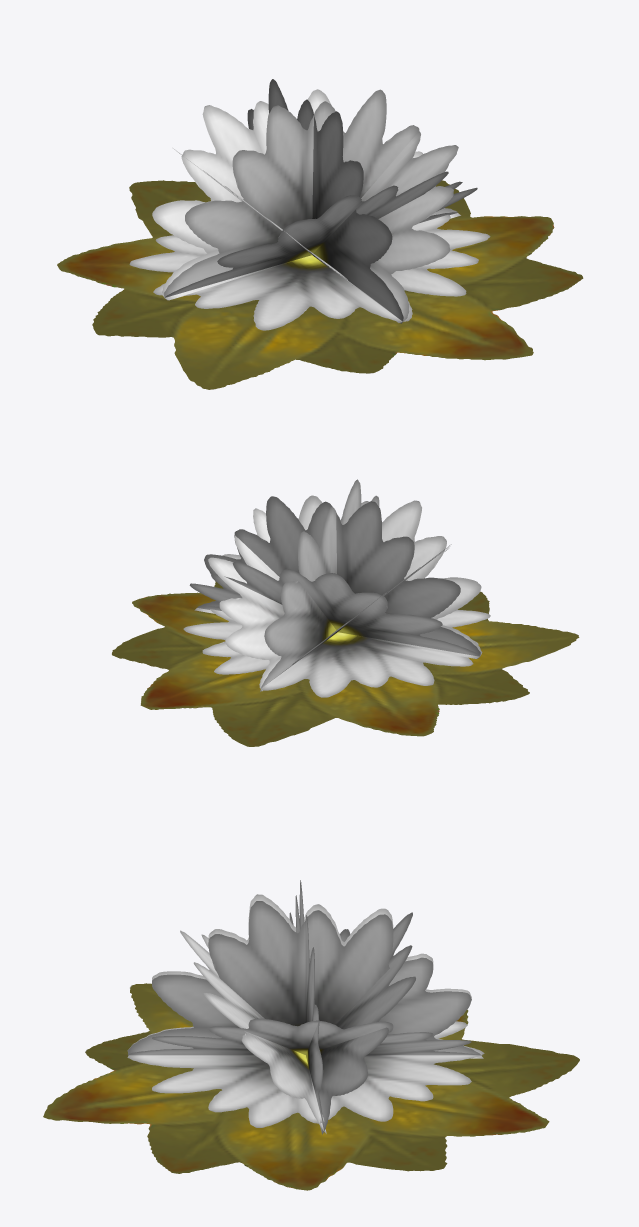
File: flowerP.fbx
3 views of the same model, one above another, from view 1: azimuth 30°, elevation 25°; view 2: azimuth 150°, elevation 25°; view 3: azimuth 270°, elevation 25° (orthographic). The views are drawn at different scales.
Parts seen in each view (by area): view 1: flowerP; view 2: flowerP; view 3: flowerP.
Boxes of the visible parts, box(x1,y1,x2,y2) form: flowerP: box(57, 79, 583, 389); flowerP: box(112, 479, 579, 746); flowerP: box(43, 880, 579, 1190).
Size of the model in its own units: 111 by 38.08 by 111.
1 material, 1 textured.
